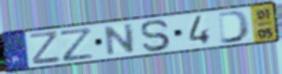4: (187, 14, 213, 47)
D: (216, 9, 252, 45)
N: (103, 22, 136, 58)
S: (139, 18, 174, 53)
Z: (58, 26, 95, 63), (28, 29, 62, 65)
